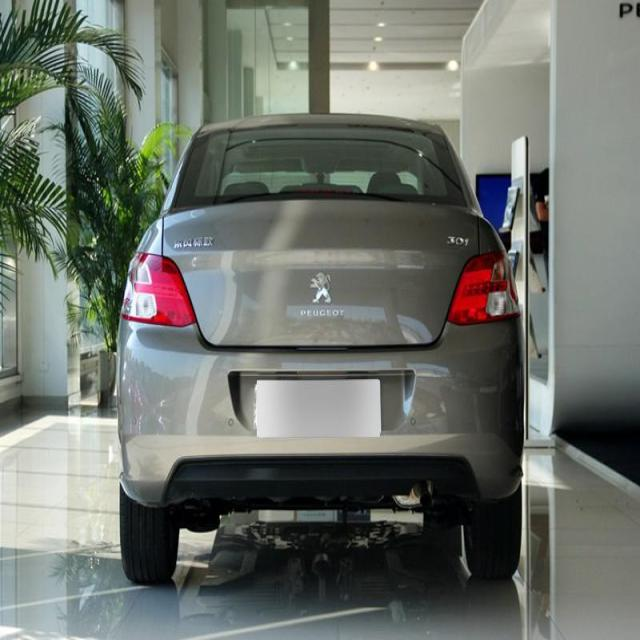back_glass: (170, 123, 467, 213)
back_left_side_light: (120, 250, 197, 328)
back_right_side_light: (446, 247, 521, 326)
rear_bumper: (117, 325, 527, 506)
wheel: (120, 496, 173, 586), (468, 488, 522, 574)
